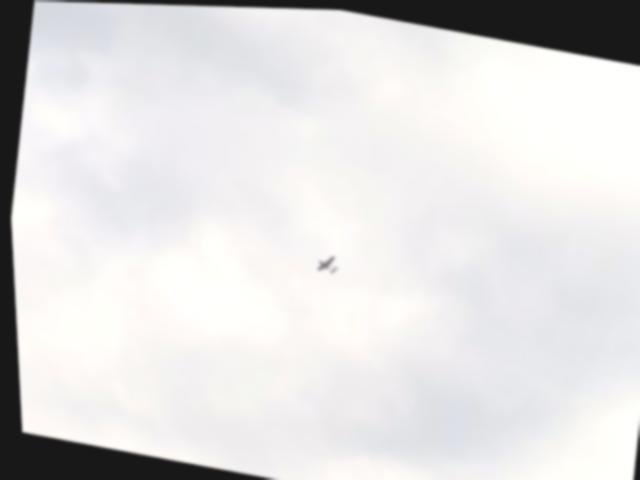uav: (311, 248, 339, 275)
